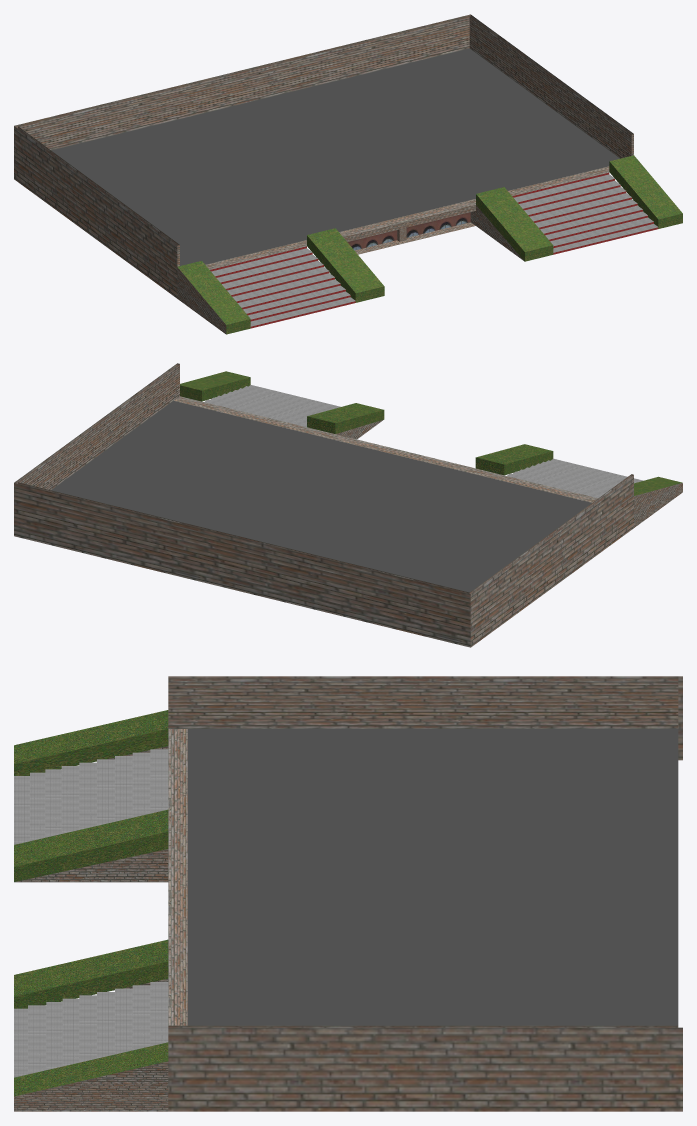
File: building base.fbx
3 renders of one model, top to bottom at view 1: azimuth 30°, elevation 25°; view 2: azimuth 150°, elevation 25°; view 3: azimuth 270°, elevation 25°, orthographic. The views are drawn at different scales.
Parts seen in each view (by area): view 1: Base-04-Collider.001; view 2: Base-04-Collider.001; view 3: Base-04-Collider.001.
Part boxes in pixels (x1=…): Base-04-Collider.001: x1=14, y1=14, x2=682, y2=334; Base-04-Collider.001: x1=14, y1=363, x2=682, y2=647; Base-04-Collider.001: x1=14, y1=676, x2=682, y2=1111.
Size of the model in its own units: 4473 by 500 by 3600.
1 material, 1 textured.
